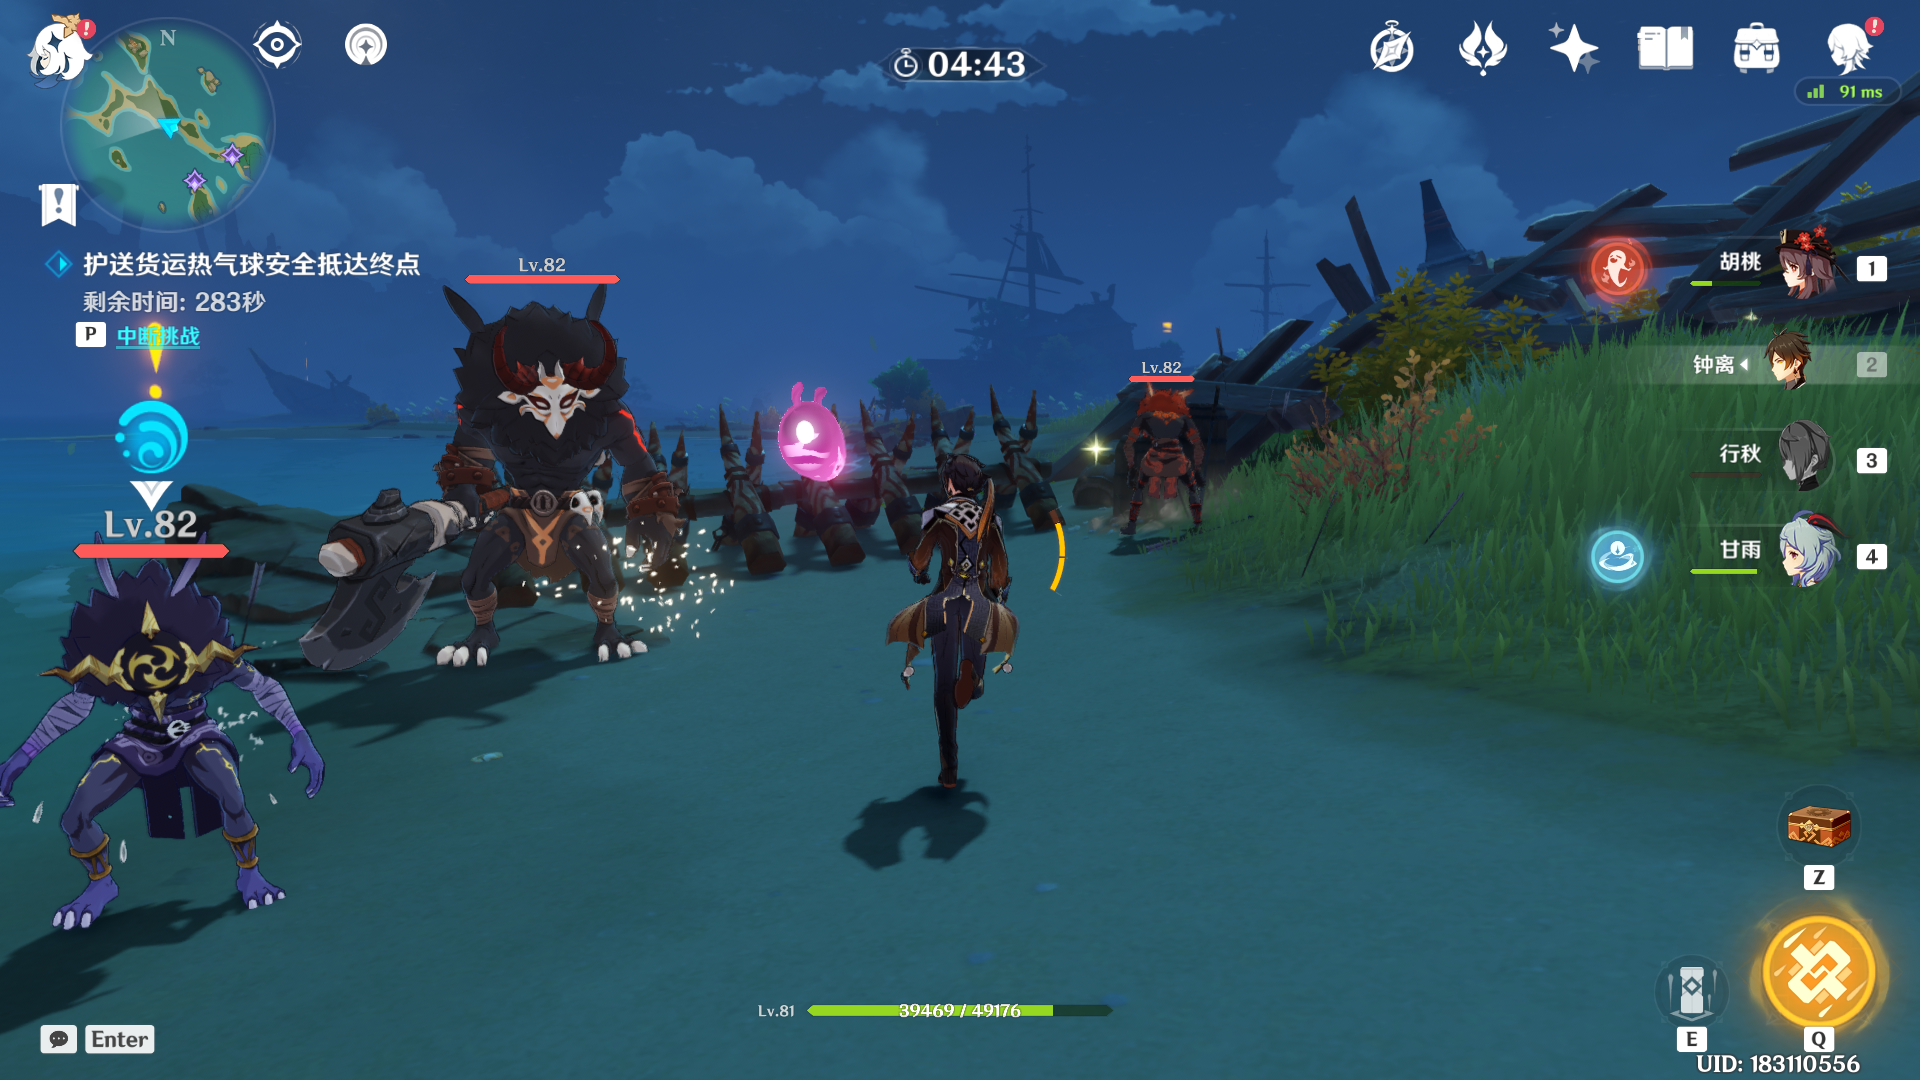bighili: (313, 255, 723, 727)
character: (887, 421, 1062, 822)
hili: (1, 525, 384, 975), (1097, 328, 1265, 589)
